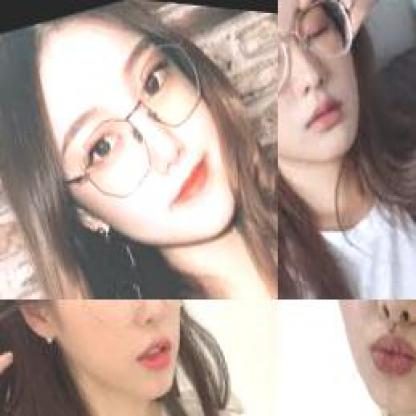Glasses: (34, 14, 226, 222), (278, 0, 369, 119), (39, 299, 223, 357), (306, 300, 414, 353)
